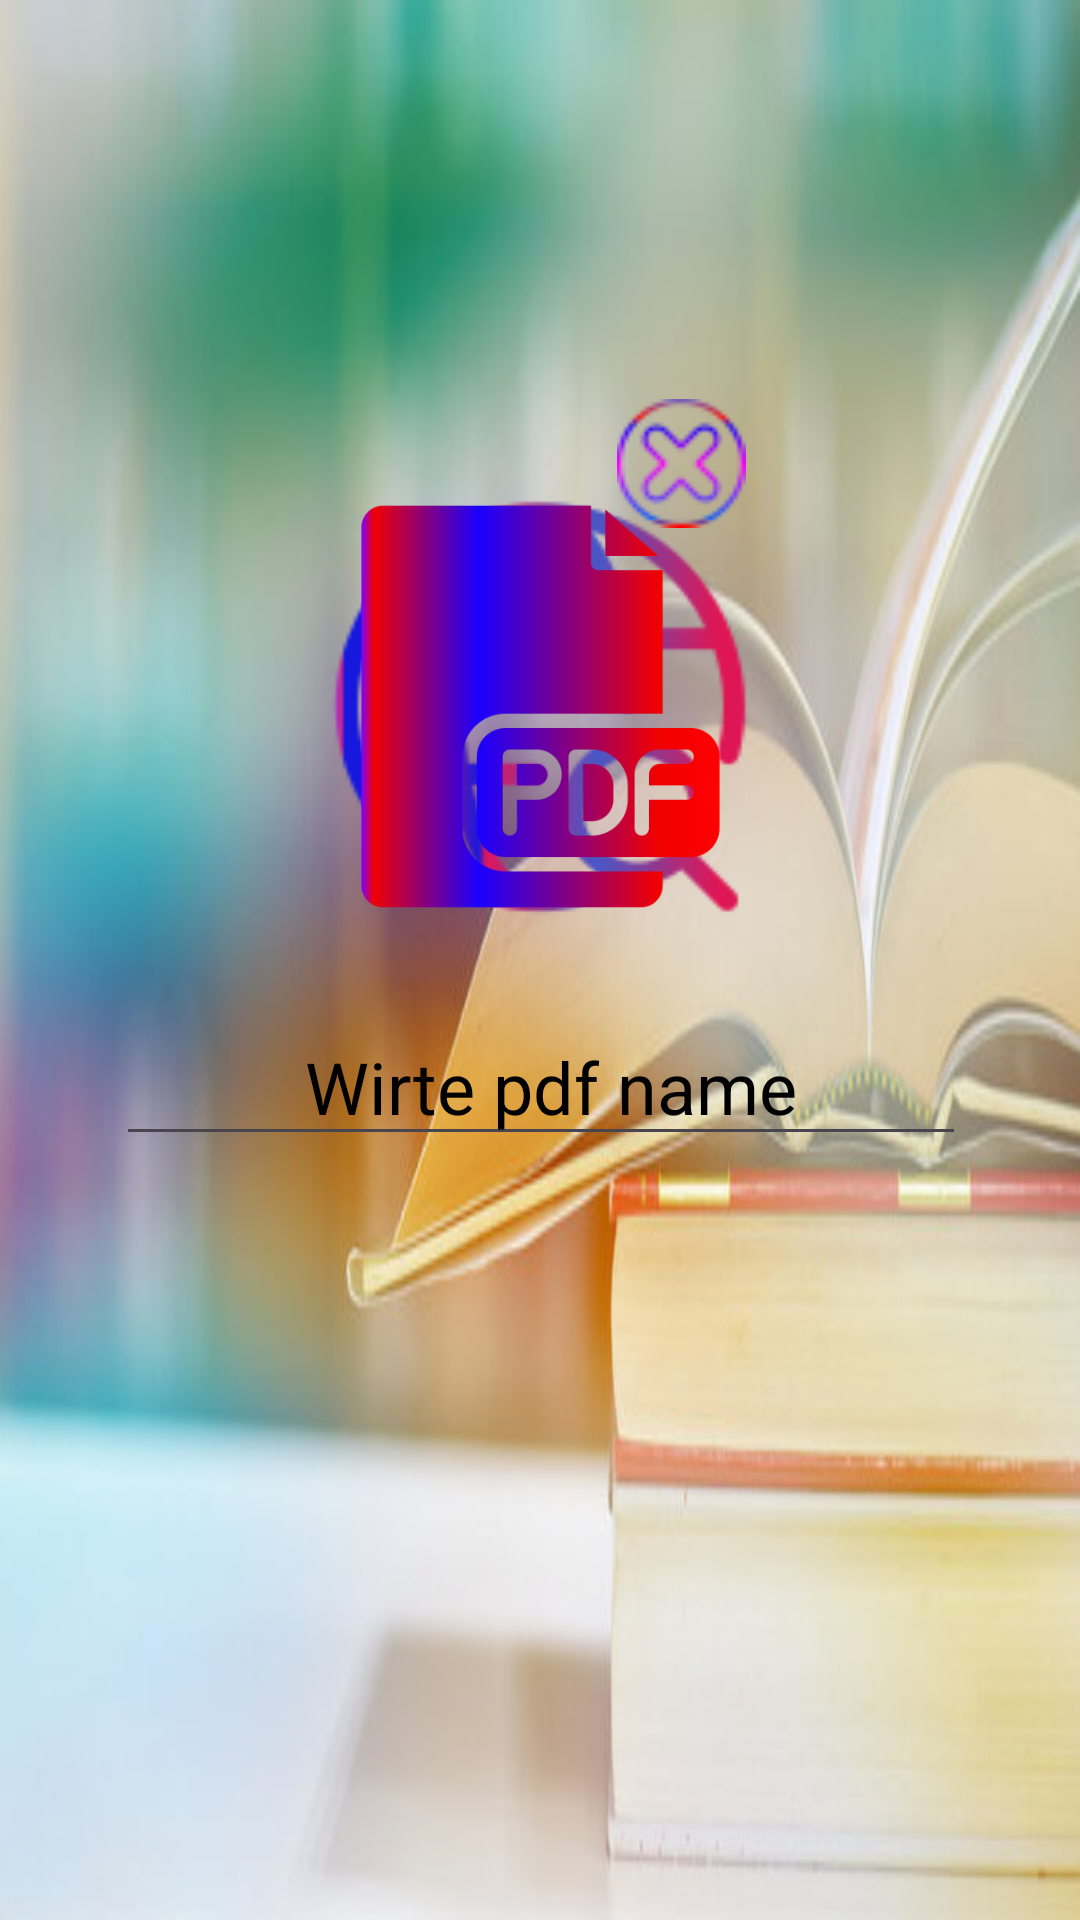

Icon click points for this 1080w x 1920h phone screenshot, format (x,y):
cross: (677,463)
